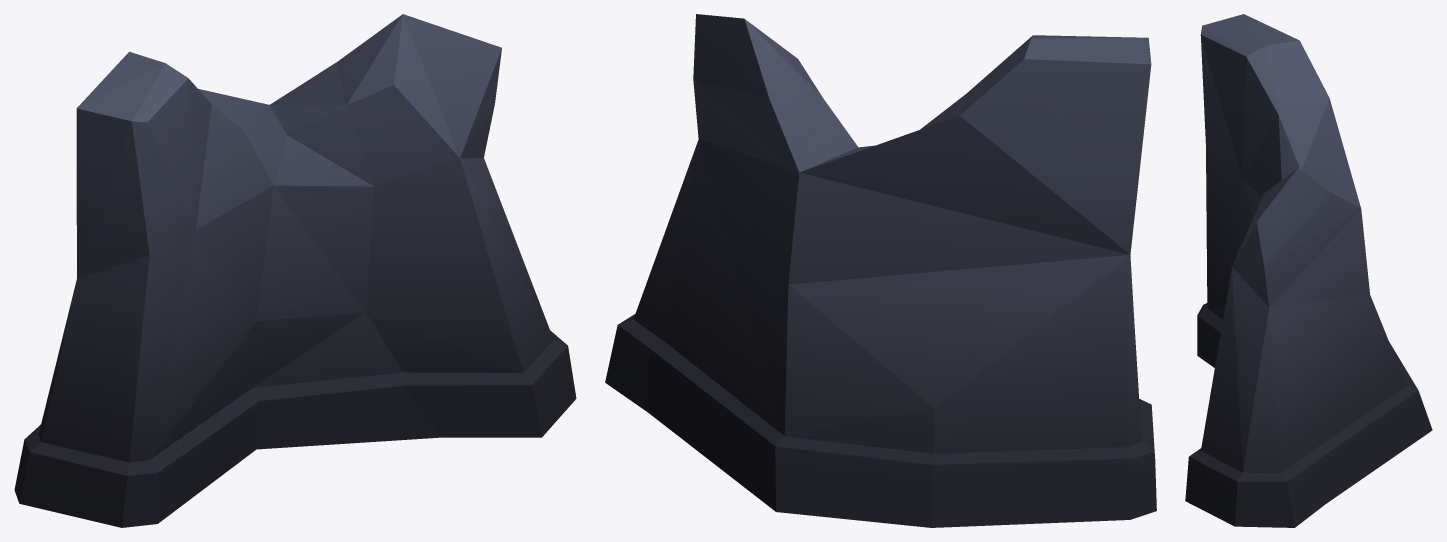
Rendered from SM_Ruined_Walls_5.fbx.
3 renders of one model, left to right at view 1: azimuth 30°, elevation 25°; view 2: azimuth 150°, elevation 25°; view 3: azimuth 270°, elevation 25°, orthographic. The views are drawn at different scales.
Visible parts, largest first — view 1: Ruined_Walls_5; view 2: Ruined_Walls_5; view 3: Ruined_Walls_5.
Part boxes in pixels (left/top/right/bottom): Ruined_Walls_5: left=14, top=14, right=576, bottom=527; Ruined_Walls_5: left=605, top=14, right=1156, bottom=527; Ruined_Walls_5: left=1185, top=14, right=1432, bottom=527.
Size of the model in its own units: 379 by 285 by 194.
Materials: 1 (1 with a texture image).
